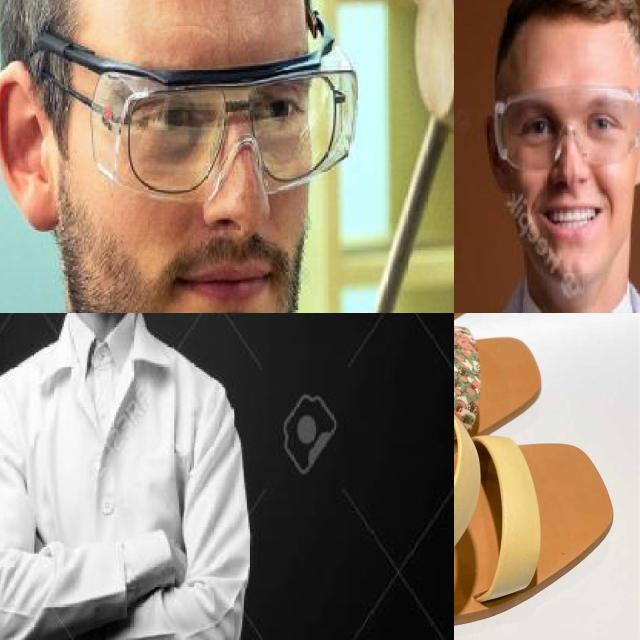No_Ear-Protection: (0, 59, 65, 238)
Sandals: (454, 322, 633, 640)
face_nomask: (113, 55, 320, 313), (500, 95, 640, 258)
glasses: (36, 27, 360, 205), (120, 64, 346, 190), (493, 80, 640, 172)
head_nohelmet: (503, 0, 640, 71)
person: (0, 313, 261, 640), (454, 0, 640, 313)
